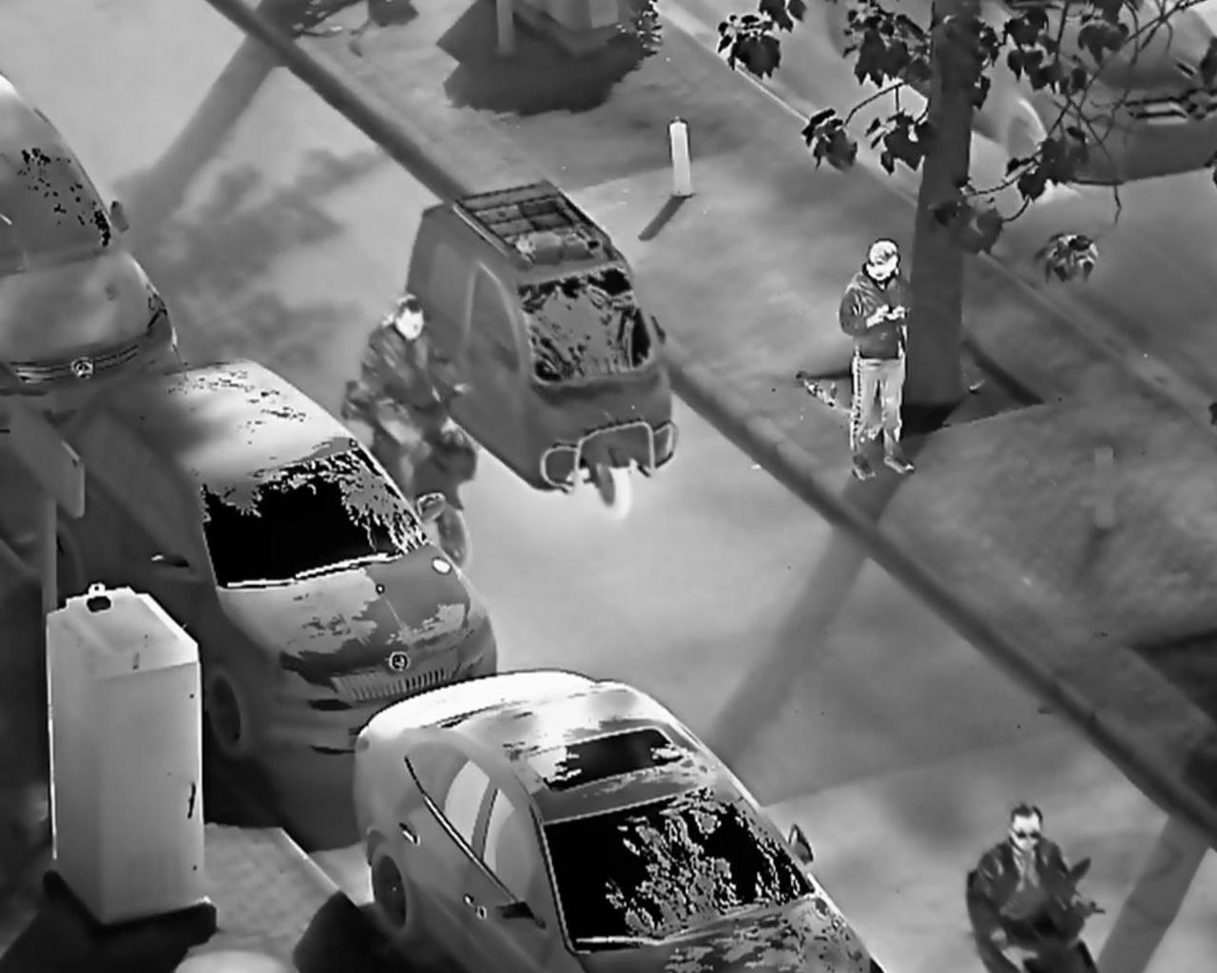person: (361, 292, 467, 503), (966, 802, 1093, 973), (837, 237, 919, 483)
